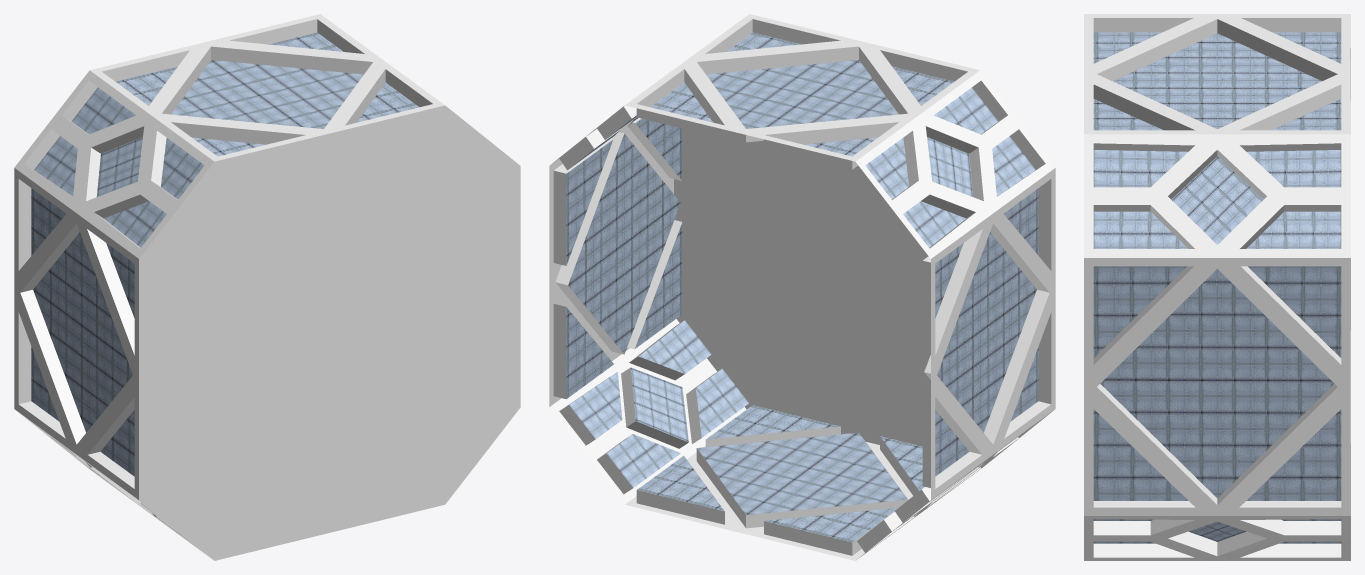
Rendered from module 2.obj.
3 views of the same model, side by side, from view 1: azimuth 30°, elevation 25°; view 2: azimuth 150°, elevation 25°; view 3: azimuth 270°, elevation 25° (orthographic). The views are drawn at different scales.
Parts seen in each view (by area): view 1: module_2; view 2: module_2; view 3: module_2.
Part boxes in pixels (box(x1,y1,x2,y2)): module_2: box(14, 14, 520, 560); module_2: box(549, 14, 1055, 560); module_2: box(1084, 14, 1350, 560).
Size of the model in its own units: 0.1498 by 0.1498 by 0.0849.
2 materials, 2 textured.
